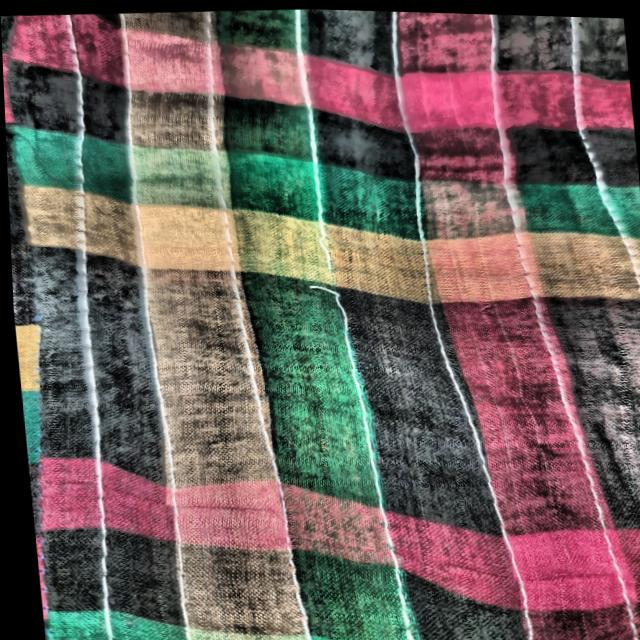Stitch: (284, 235, 347, 317), (338, 239, 346, 240)
